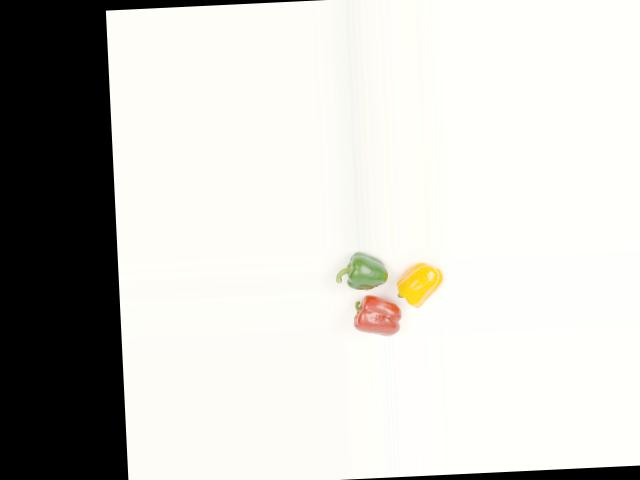bell_pepper: (332, 250, 389, 293)
